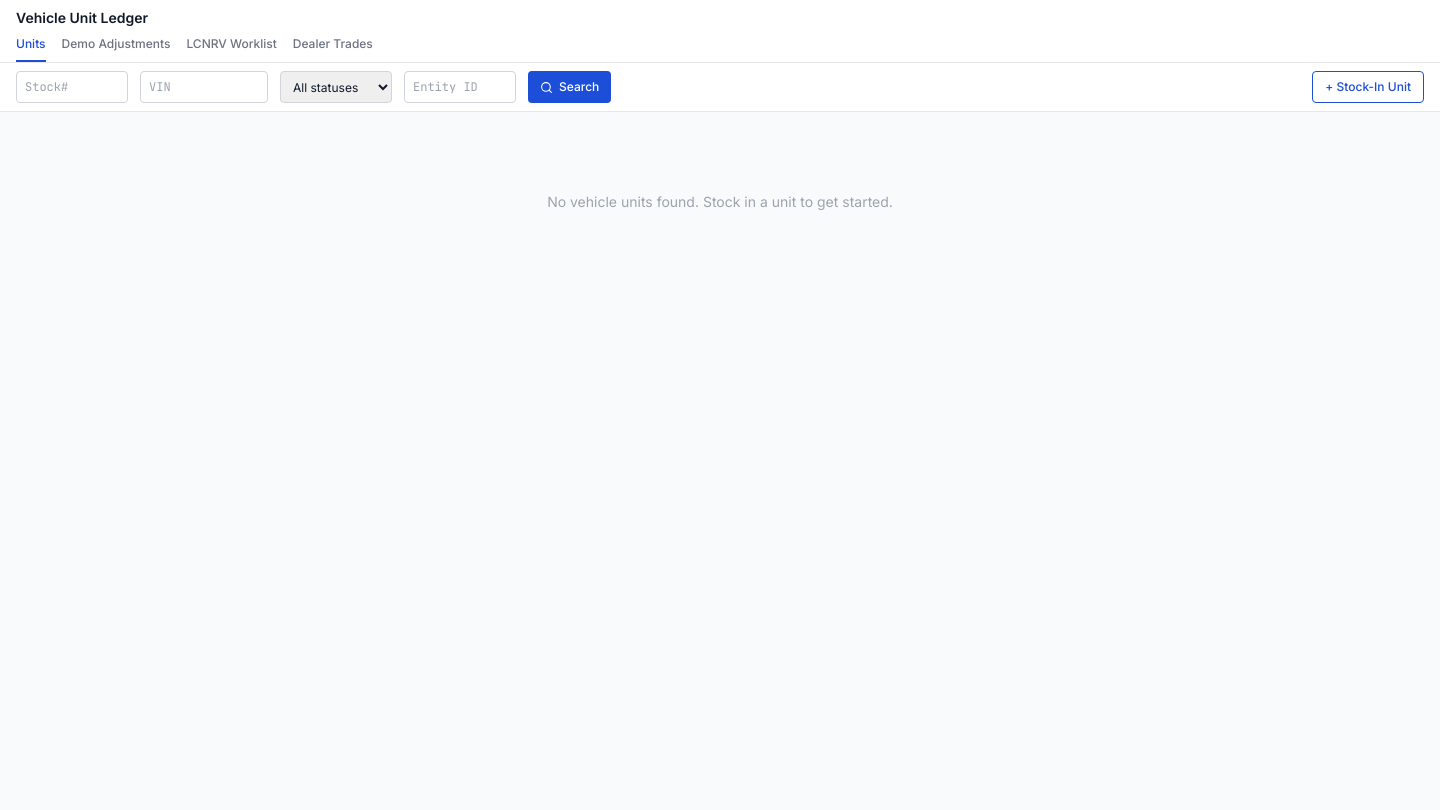
it: VehicleUnitLedger — Demo Adjustments tab journal drill-down › drills into the real coa-service journal from a posted demo value adjustment
The image size is (1440, 810).
Click the button with test id "demo-adjustments-tab-button": (116, 49) [62, 36, 170, 62]
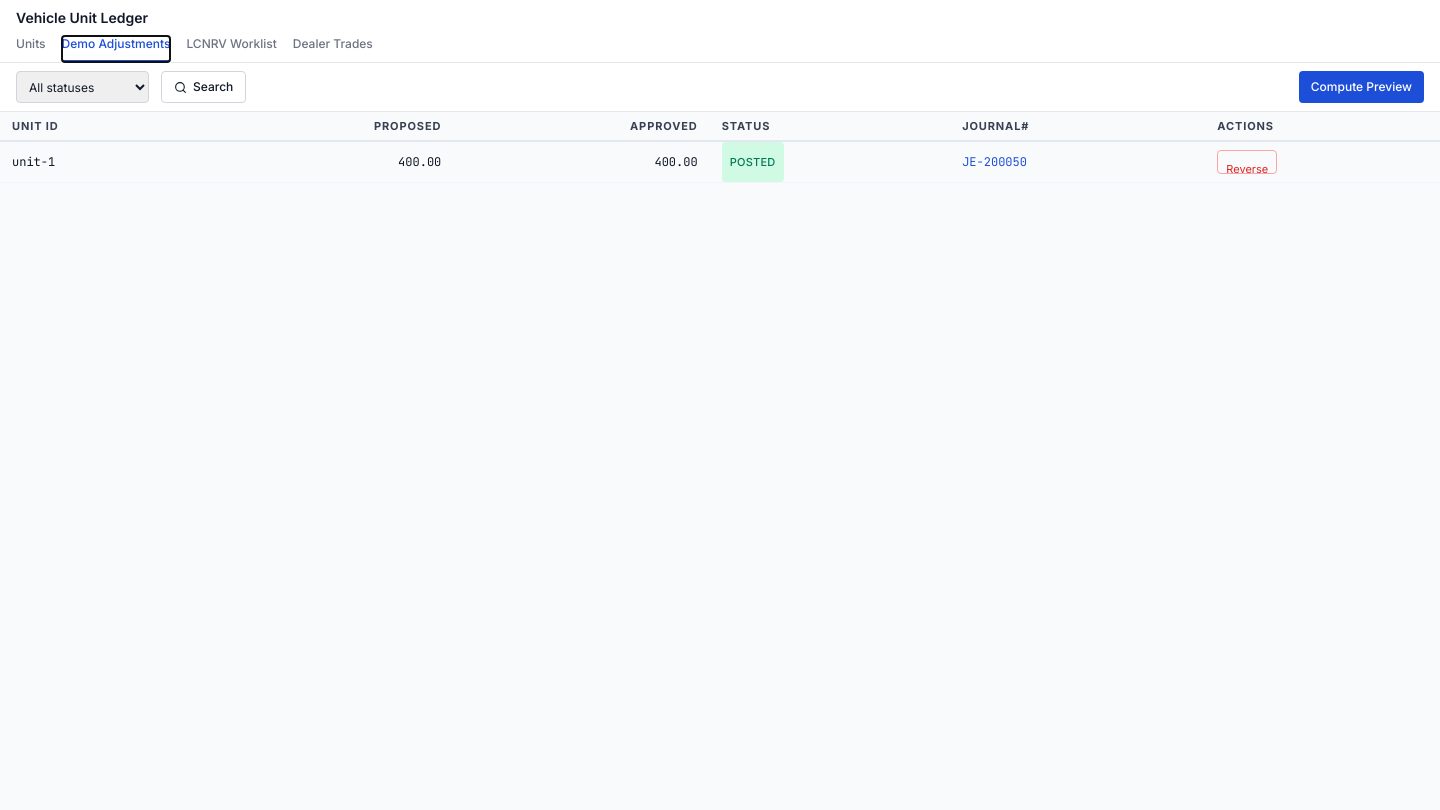
Click the button with test id "journal-drill-link-dva-1": (994, 162) [962, 144, 1027, 180]
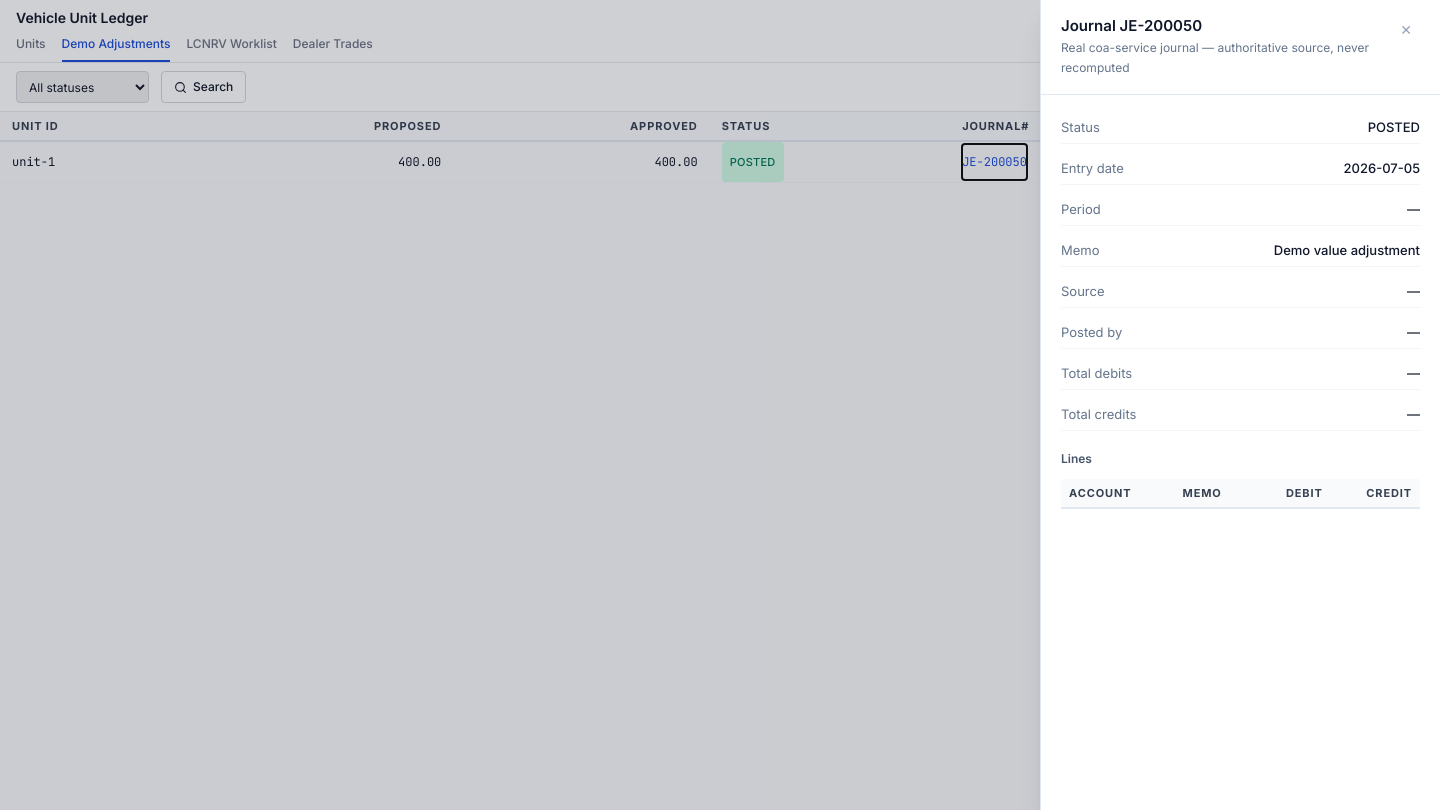
Check: the dialog with test id "ce12-journal-drill-drawer" is shown, box [1040, 0, 1439, 809]
